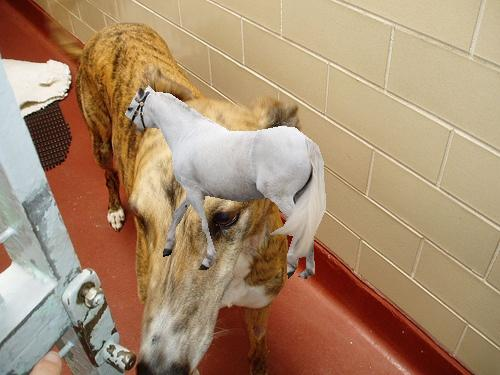tampered: (126, 86, 326, 279)
